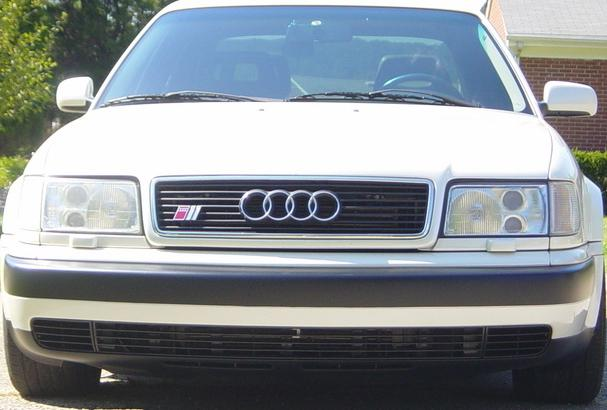front_view: (0, 165, 602, 379)
headlight: (433, 165, 587, 247)
